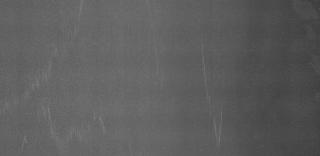silk spot: (192, 40, 234, 152), (30, 101, 106, 146), (24, 38, 76, 90), (148, 38, 172, 84)
